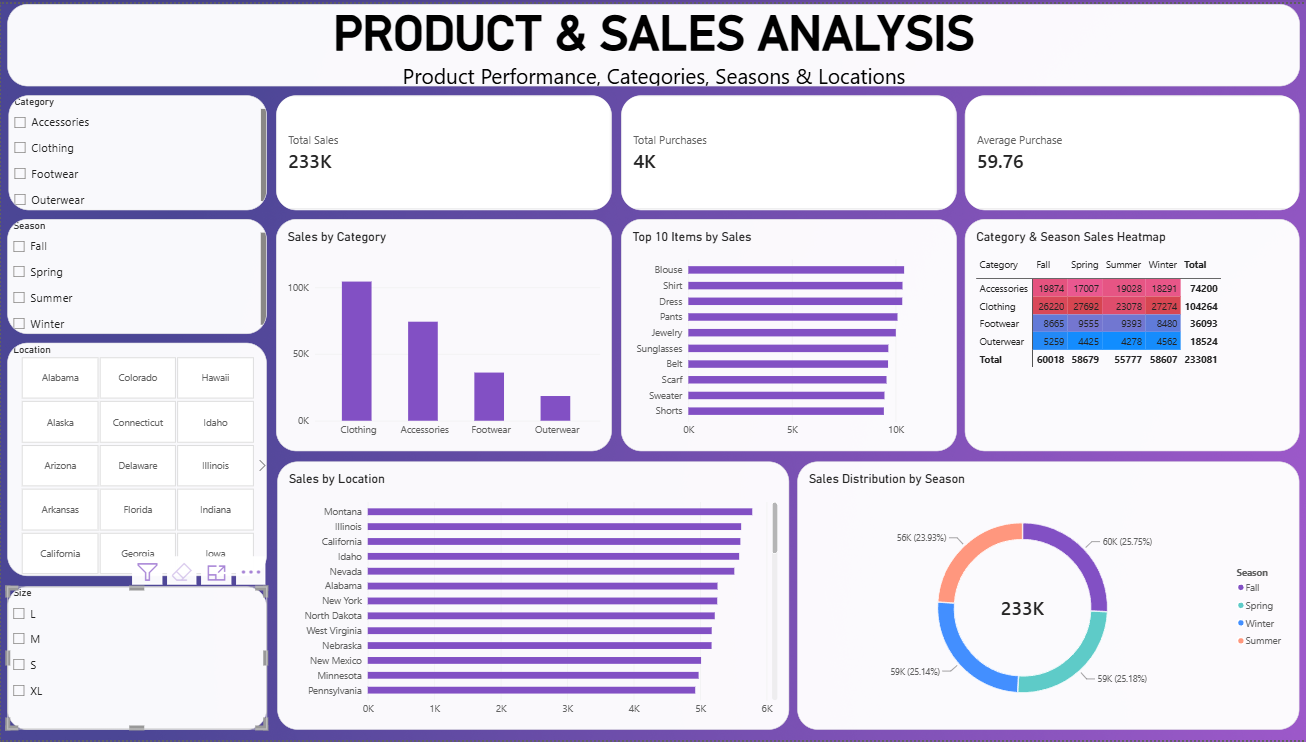

This screenshot's page, from the dashboard's own definition file:
{"tool":"powerbi","page":{"name":"Product & Sales Analysis","canvas":[1920,1080],"ordinal":2},"visuals":[{"type":"textbox","title":"PRODUCT & SALES ANALYSIS","box":[9.2,0,1896.6,120.9],"z":0},{"type":"slicer","fields":{"Values":["customer_shopping customer_shopping_data.Category"]},"box":[11,133.8,379.3,168.6],"z":1000},{"type":"slicer","fields":{"Values":["customer_shopping customer_shopping_data.Season"]},"box":[9.2,315.2,381.1,168.6],"z":2000},{"type":"slicer","fields":{"Values":["customer_shopping customer_shopping_data.Location"]},"box":[9.2,496.6,381.1,342.7],"z":3000},{"type":"slicer","fields":{"Values":["customer_shopping customer_shopping_data.Size"]},"box":[9.2,853.9,381.1,210.7],"z":4000},{"type":"cardVisual","fields":{"Data":["customer_shopping customer_shopping_data.Total Sales"]},"box":[403.1,133.8,492.9,168.6],"z":5000},{"type":"cardVisual","fields":{"Data":["customer_shopping customer_shopping_data.Total Purchases"]},"box":[908.9,133.8,492.9,168.6],"z":6000},{"type":"cardVisual","fields":{"Data":["customer_shopping customer_shopping_data.Average Purchase"]},"box":[1414.6,133.8,491.1,168.6],"z":7000},{"type":"clusteredColumnChart","title":"Sales by Category","fields":{"Category":["customer_shopping customer_shopping_data.Category"],"Y":["customer_shopping customer_shopping_data.Total Sales"]},"box":[403.1,315.2,492.9,340.8],"z":8000},{"type":"clusteredBarChart","title":"Top 10 Items by Sales","fields":{"Category":["customer_shopping customer_shopping_data.Item Purchased"],"Y":["customer_shopping customer_shopping_data.Total Sales"]},"box":[909,315,493,341],"z":9000},{"type":"donutChart","title":"Sales Distribution by Season","fields":{"Category":["customer_shopping customer_shopping_data.Season"],"Y":["customer_shopping customer_shopping_data.Total Sales"]},"box":[1169.1,670.7,736.6,394],"z":10000},{"type":"clusteredBarChart","title":"Sales by Location","fields":{"Category":["customer_shopping customer_shopping_data.Location"],"Y":["customer_shopping customer_shopping_data.Total Sales"]},"box":[405,670.7,751.3,394],"z":11000},{"type":"pivotTable","title":"Category & Season Sales Heatmap","fields":{"Rows":["customer_shopping customer_shopping_data.Category"],"Columns":["customer_shopping customer_shopping_data.Season"],"Values":["customer_shopping customer_shopping_data.Total Sales"]},"box":[1414.6,315.2,491.1,340.8],"z":12000}]}

Visuals, with their boxes in screenshot pixels (x1, y1, x2, y2), scaled from the page's 1920x1080 canvas onto the 1306x742 screenshot:
"PRODUCT & SALES ANALYSIS" textbox: x1=6, y1=0, x2=1296, y2=83
slicer - customer_shopping customer_shopping_data.Category: x1=7, y1=92, x2=265, y2=208
slicer - customer_shopping customer_shopping_data.Season: x1=6, y1=217, x2=265, y2=332
slicer - customer_shopping customer_shopping_data.Location: x1=6, y1=341, x2=265, y2=577
slicer - customer_shopping customer_shopping_data.Size: x1=6, y1=587, x2=265, y2=731
cardVisual - customer_shopping customer_shopping_data.Total Sales: x1=274, y1=92, x2=609, y2=208
cardVisual - customer_shopping customer_shopping_data.Total Purchases: x1=618, y1=92, x2=954, y2=208
cardVisual - customer_shopping customer_shopping_data.Average Purchase: x1=962, y1=92, x2=1296, y2=208
"Sales by Category" clusteredColumnChart: x1=274, y1=217, x2=609, y2=451
"Top 10 Items by Sales" clusteredBarChart: x1=618, y1=216, x2=954, y2=451
"Sales Distribution by Season" donutChart: x1=795, y1=461, x2=1296, y2=731
"Sales by Location" clusteredBarChart: x1=275, y1=461, x2=787, y2=731
"Category & Season Sales Heatmap" pivotTable: x1=962, y1=217, x2=1296, y2=451
